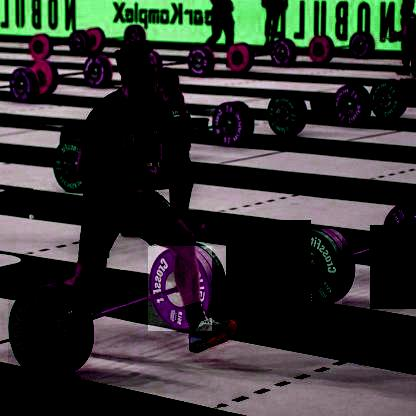barbell: (7, 289, 74, 380), (146, 247, 211, 332), (278, 230, 341, 308)
